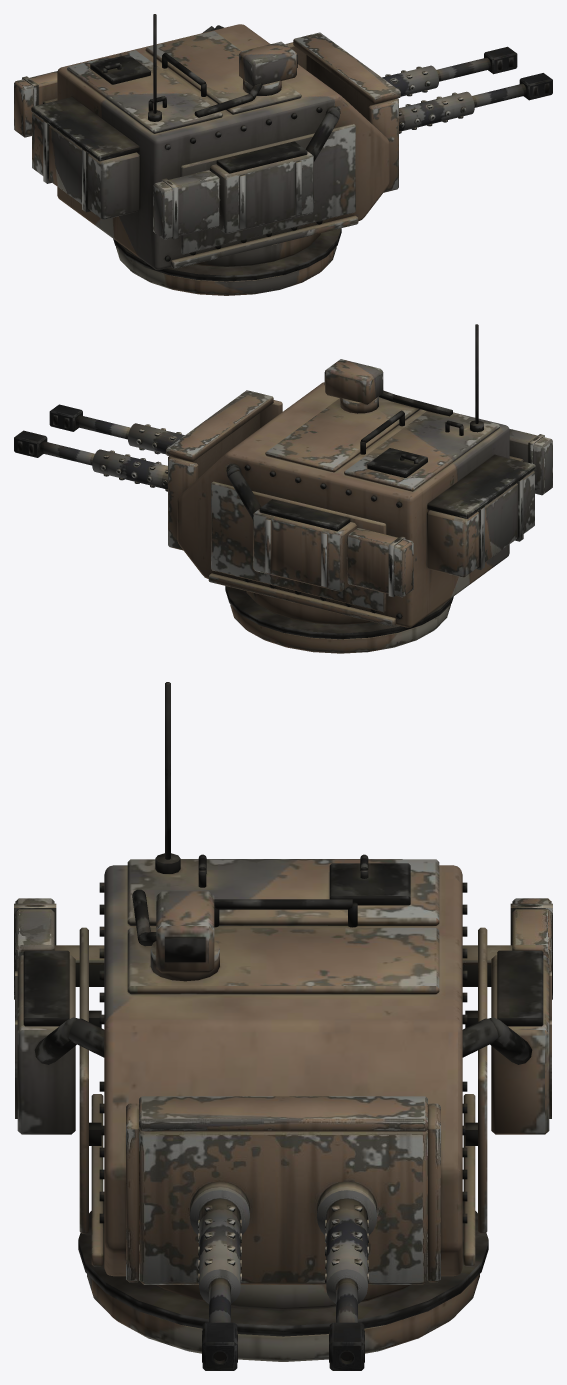
File: turret_grach_t3_rock.glb
3 views of the same model, one above another, from view 1: azimuth 30°, elevation 25°; view 2: azimuth 150°, elevation 25°; view 3: azimuth 270°, elevation 25° (orthographic). The views are drawn at different scales.
Visible parts, largest first — view 1: turret_light_t3, guns, pods; view 2: turret_light_t3, guns, pods; view 3: turret_light_t3, guns, pods.
Part boxes in pixels (left/top/right/bottom): turret_light_t3: left=31, top=14, right=389, bottom=295; guns: left=285, top=32, right=552, bottom=192; pods: left=14, top=71, right=220, bottom=239; turret_light_t3: left=177, top=324, right=535, bottom=653; guns: left=14, top=390, right=282, bottom=550; pods: left=346, top=428, right=552, bottom=597; turret_light_t3: left=15, top=682, right=551, bottom=1361; guns: left=126, top=1096, right=440, bottom=1370; pods: left=14, top=898, right=552, bottom=999.
Size of the model in its own units: 1.86 by 1.09 by 1.05.
Materials: 3 (3 with a texture image).
